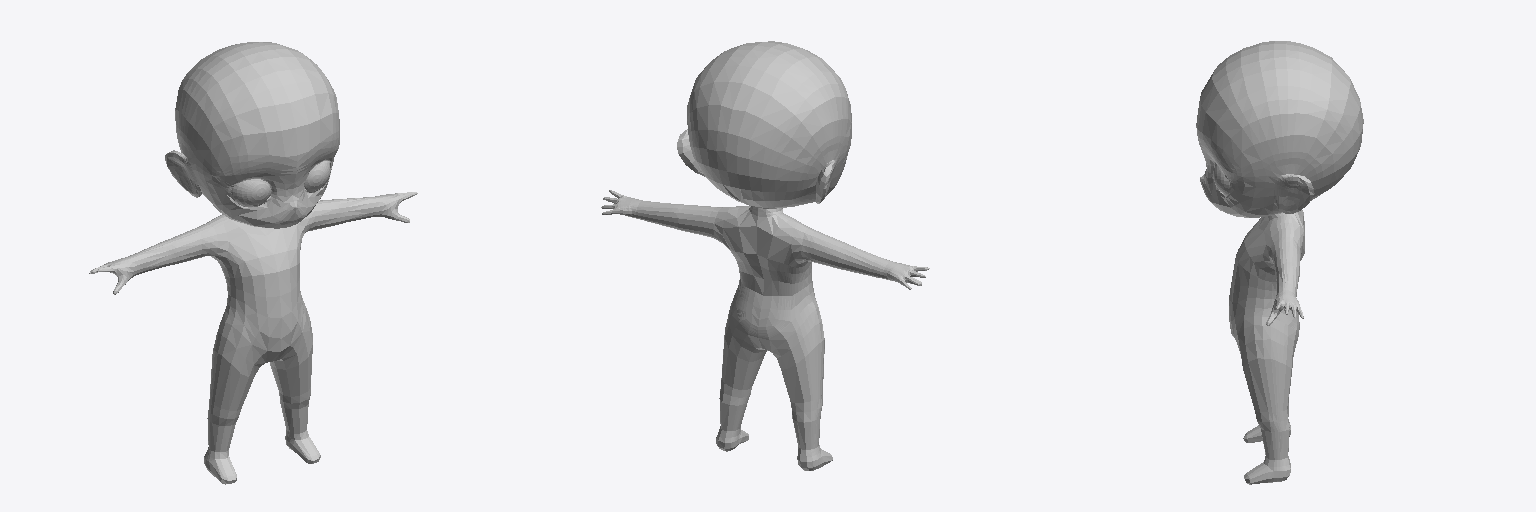
Rendered from playerv5.obj.
3 renders of one model, left to right at view 1: azimuth 30°, elevation 25°; view 2: azimuth 150°, elevation 25°; view 3: azimuth 270°, elevation 25°, orthographic.
Visible parts, largest first — view 1: retopology_obj_Plane.003; view 2: retopology_obj_Plane.003; view 3: retopology_obj_Plane.003.
Part boxes in pixels (x1,y1,x2,y2): retopology_obj_Plane.003: (89,42,417,484); retopology_obj_Plane.003: (601,41,929,470); retopology_obj_Plane.003: (1196,41,1363,484).
Size of the model in its own units: 4.66 by 5.68 by 2.09.